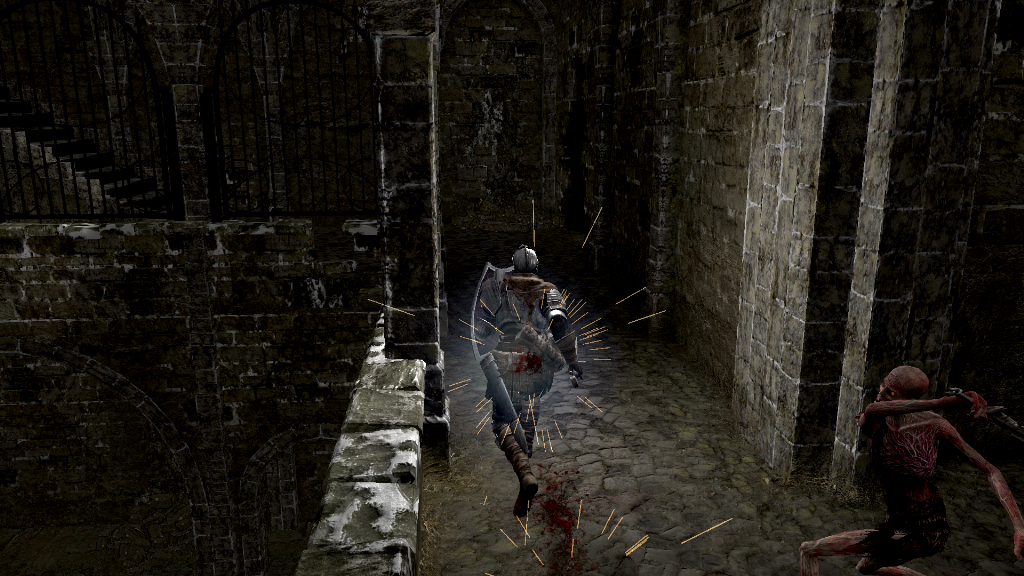hollow: (798, 363, 1024, 574)
player: (470, 243, 585, 520)
